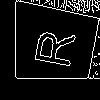R: (25, 26, 76, 70)
